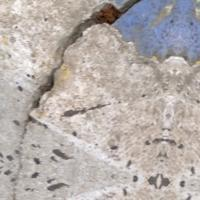crack: (17, 0, 169, 135)
